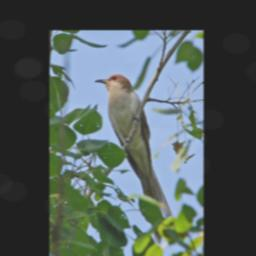Cuckoo: (94, 73, 175, 245)
